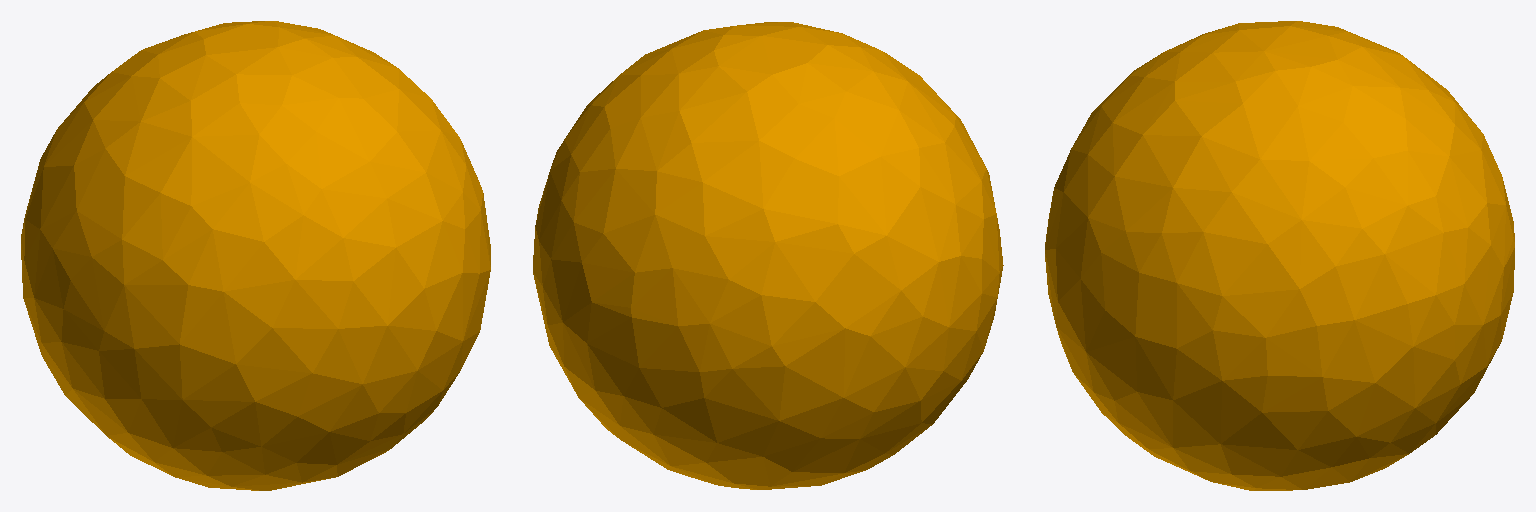
robot.urdf — 058_golf_ball:
<?xml version="1.0" encoding="UTF-8"?>
<robot name="058_golf_ball">
	<link name="base">
		<collision>
			<geometry>
				<mesh filename="..\vhacd\058_golf_ball_vhacd.obj" scale="1.0 1.0 1.0"/>
			</geometry>
			<origin xyz="0 0 0"/>
			<contact_coefficients mu="0.24" />
		</collision>
		<visual>
			<geometry>
				<mesh filename="..\vhacd\058_golf_ball_vhacd.obj" scale="1.0 1.0 1.0"/>
			</geometry>
			<origin xyz="0 0 0"/>
		</visual>
		<inertial>
			<mass value="0"/>
			<inertia ixx="0.0" ixy="-0.0" ixz="0.0" iyy="0.0" iyz="-0.0" izz="0.0" />
			<origin xyz="-0.006528858553422899 -0.03041729714545634 0.02092653009275198"/>
		</inertial>
	</link>
</robot>

--- Render facts (derived) ---
Views: 3 orthographic renders of the robot side by side, from view 1: azimuth 30°, elevation 25°; view 2: azimuth 150°, elevation 25°; view 3: azimuth 270°, elevation 25°.
Robot: 058_golf_ball — 1 links, 0 joints (none); root link base; default pose: all joints at 0.
Visible links, largest first — view 1: base; view 2: base; view 3: base.
Boxes of the visible links, x1,y1,x2,y2 form: base: [21, 21, 490, 490]; base: [533, 22, 1003, 489]; base: [1045, 21, 1514, 490].
Size in the robot's own frame: 0.0429 by 0.0429 by 0.0425 metres.
Meshes: 1 distinct files referenced, 1 mesh visuals loaded (1 OBJ).